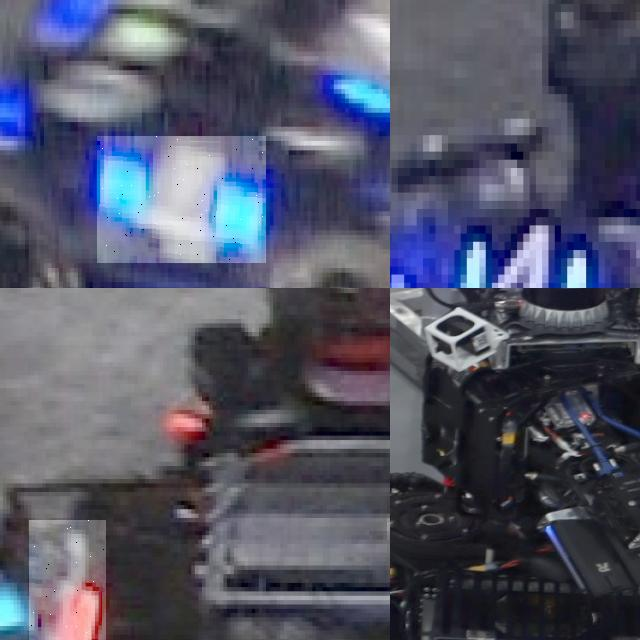B4: (97, 136, 266, 263), (454, 209, 604, 288)
R3: (29, 520, 107, 640)
